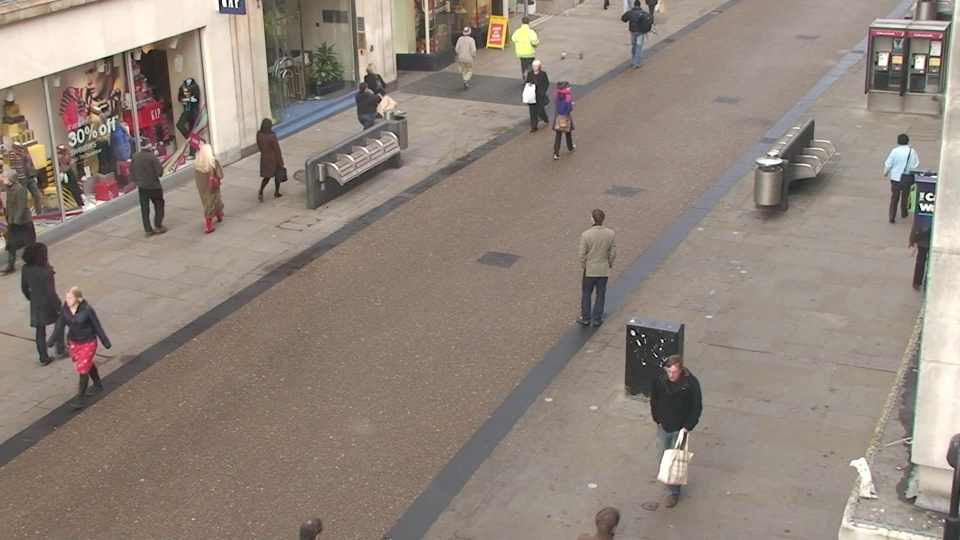pedestrian: (51, 280, 113, 417), (646, 350, 699, 506), (12, 238, 73, 363), (579, 202, 617, 323), (877, 129, 922, 231), (126, 135, 168, 233), (188, 138, 228, 238), (251, 114, 287, 207), (576, 492, 637, 540), (281, 500, 351, 540), (350, 78, 381, 162), (548, 76, 576, 161), (358, 62, 387, 142), (524, 57, 551, 136), (455, 24, 480, 93), (513, 14, 537, 81)
